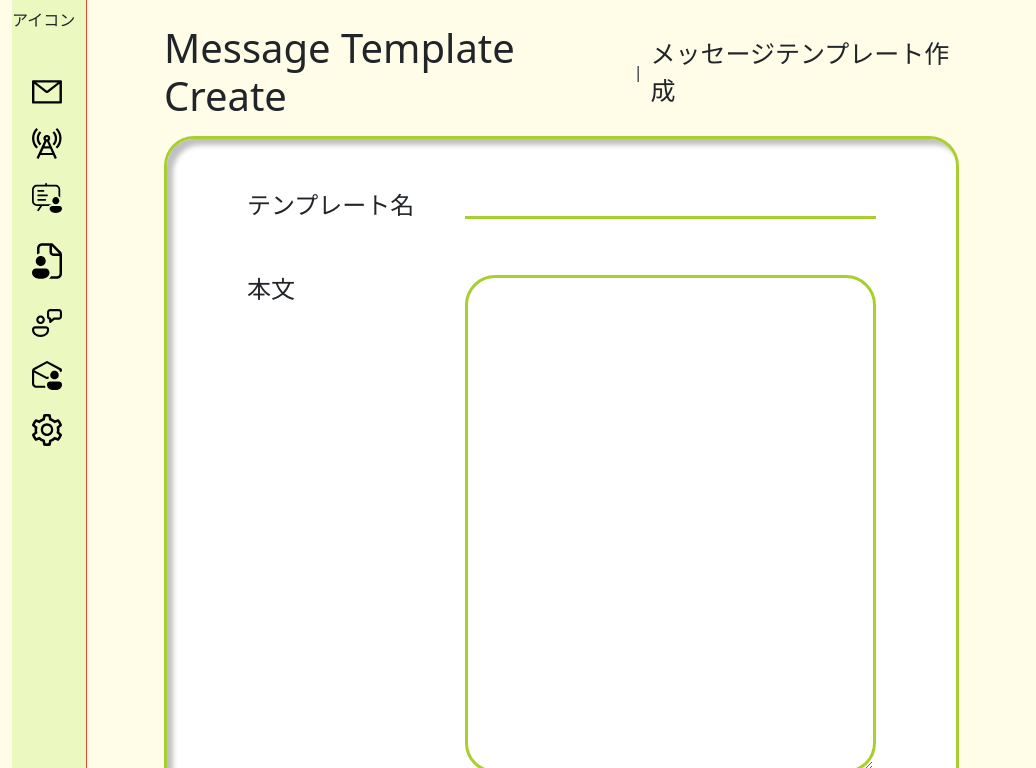
it: メッセージテンプレート作成 › 本文を入れないとバリデーションメッセージが表示される
Step 1. Type "メッセージテンプレート作成1" into the field with test id "message-template-input-name" → (670, 205), box [465,191,876,219]
(page scrolled)
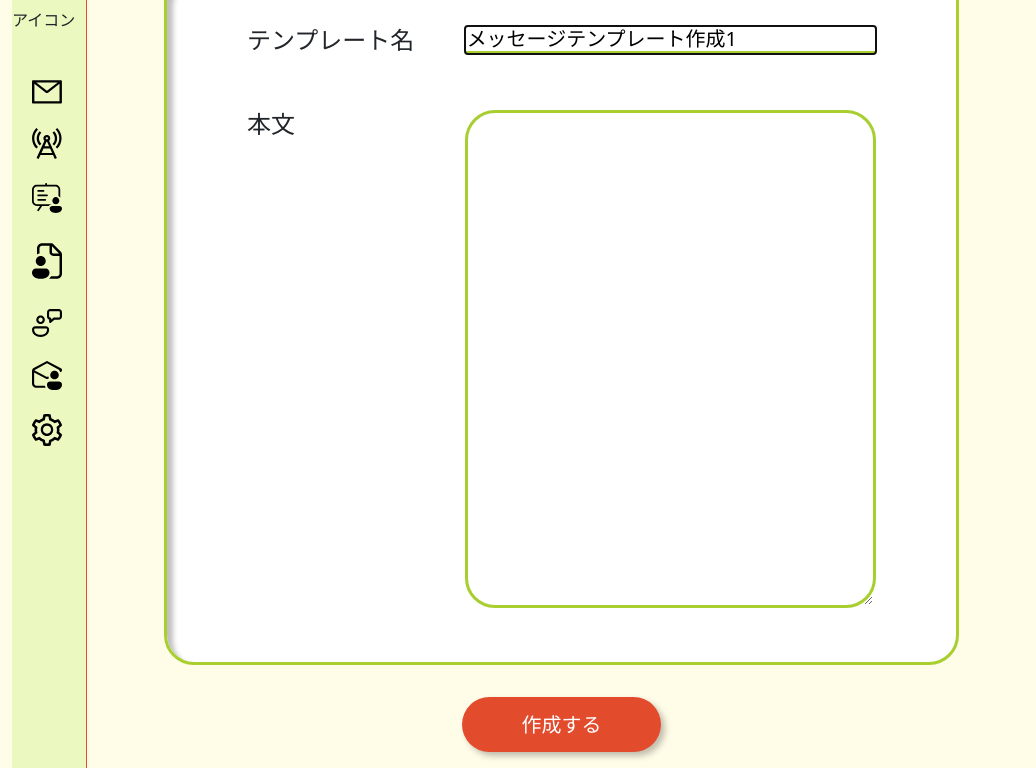
Step 2. Click the button → (562, 724), box [462,697,661,752]
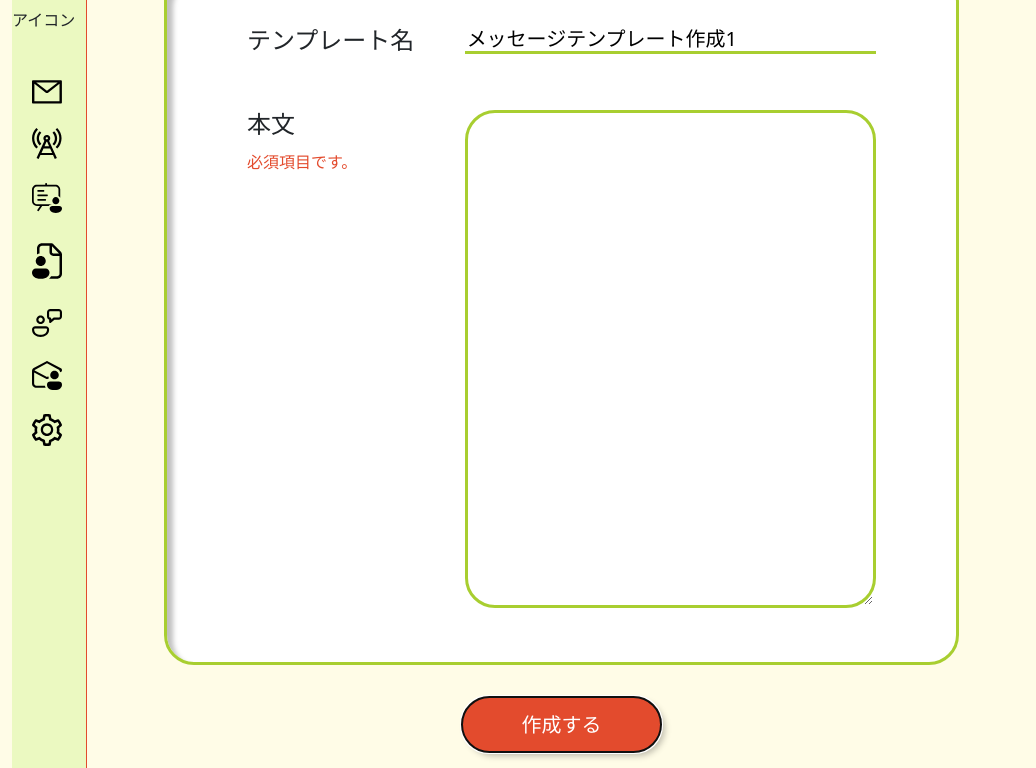
Expected: the text "必須項目です。" is shown, [247,151,357,173]
